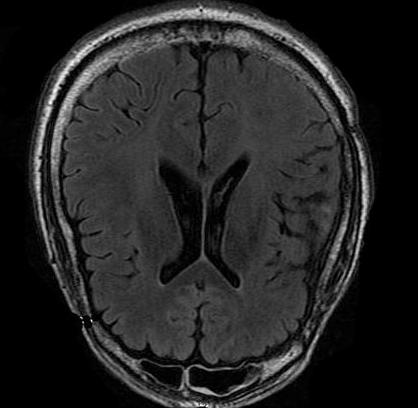Normal_Brain: (1, 1, 417, 408)
